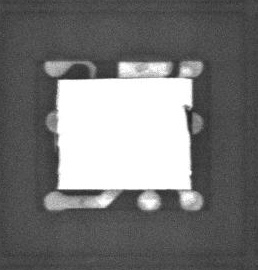DIE_BROKEN: (182, 102, 192, 137), (54, 146, 61, 190)
